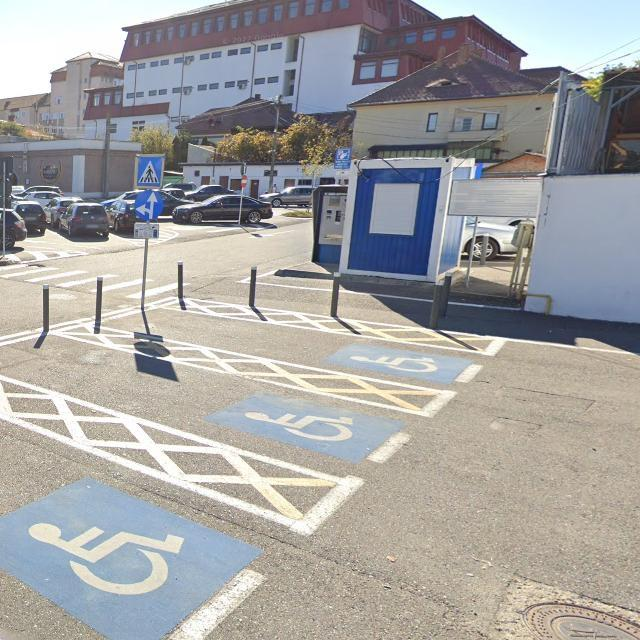info_crosswalk: (135, 153, 165, 189)
